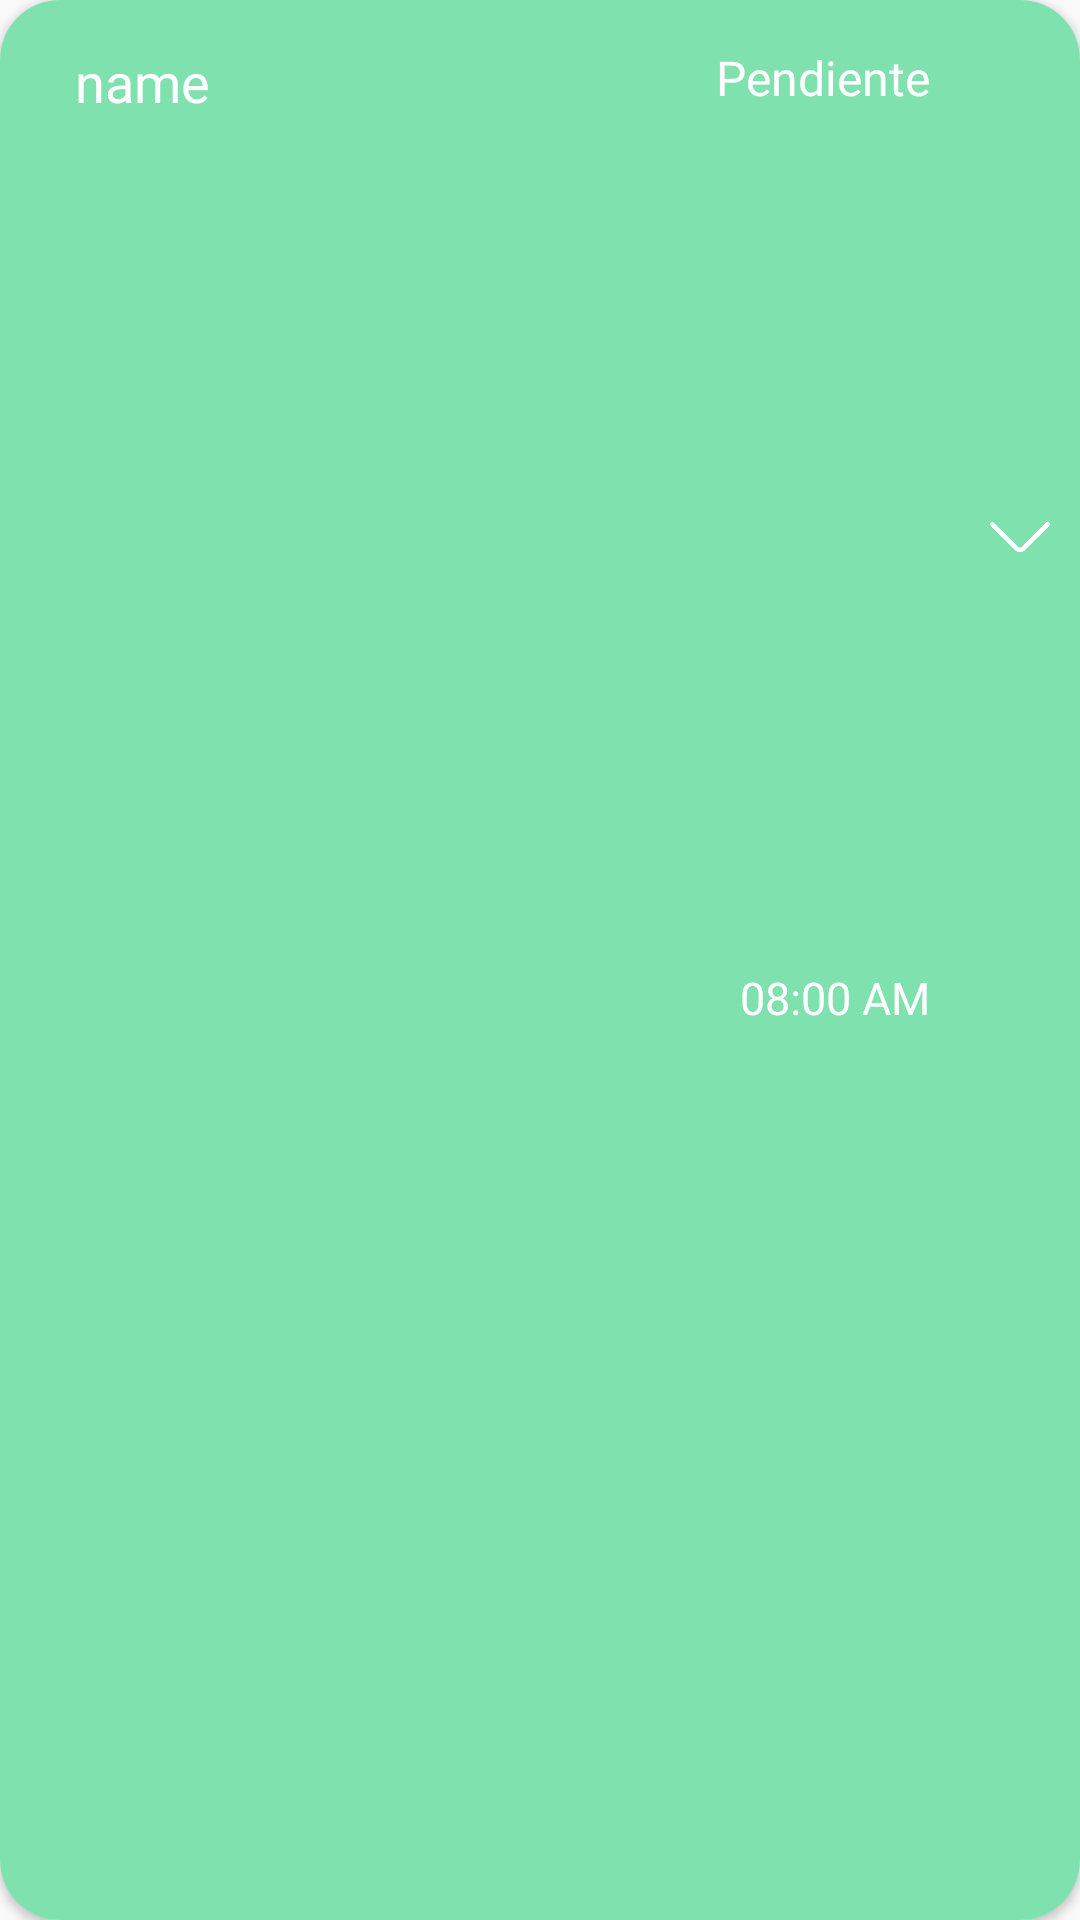

Where icons sit on this 1080x1920 app screen, as (x1, y1, x2, y2):
abajo: (990, 522, 1050, 552)
